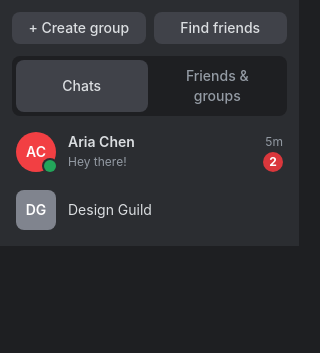
Test case: ChatList › shows error state with retry for friends on failure
Click the tab "Friends & groups".
click(217, 86)  # box [152,60,283,112]
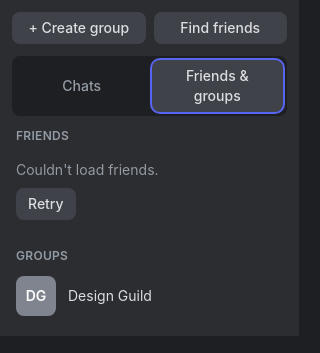
Expected: the text "Couldn't load friends." is shown, [16,160,159,180]
Expected: the button "Retry" is shown, [16,188,76,220]
